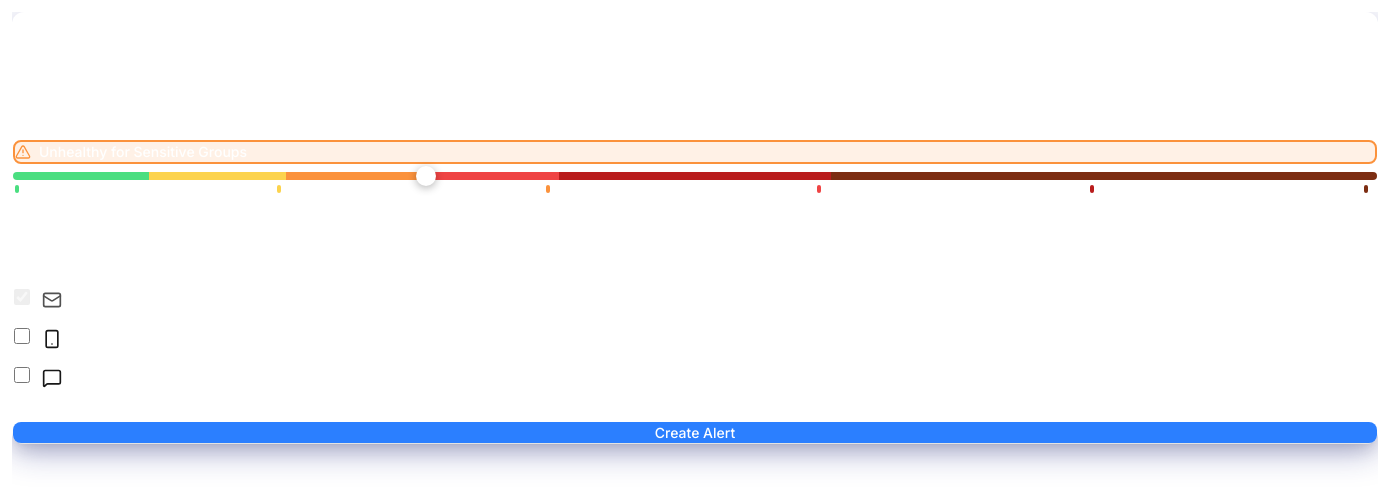
it: AlertConfigurationCardConnected › Loading State › should show loading state during submission
The image size is (1390, 487).
Click the button "Create Alert": (695, 432) [13,422,1377,443]
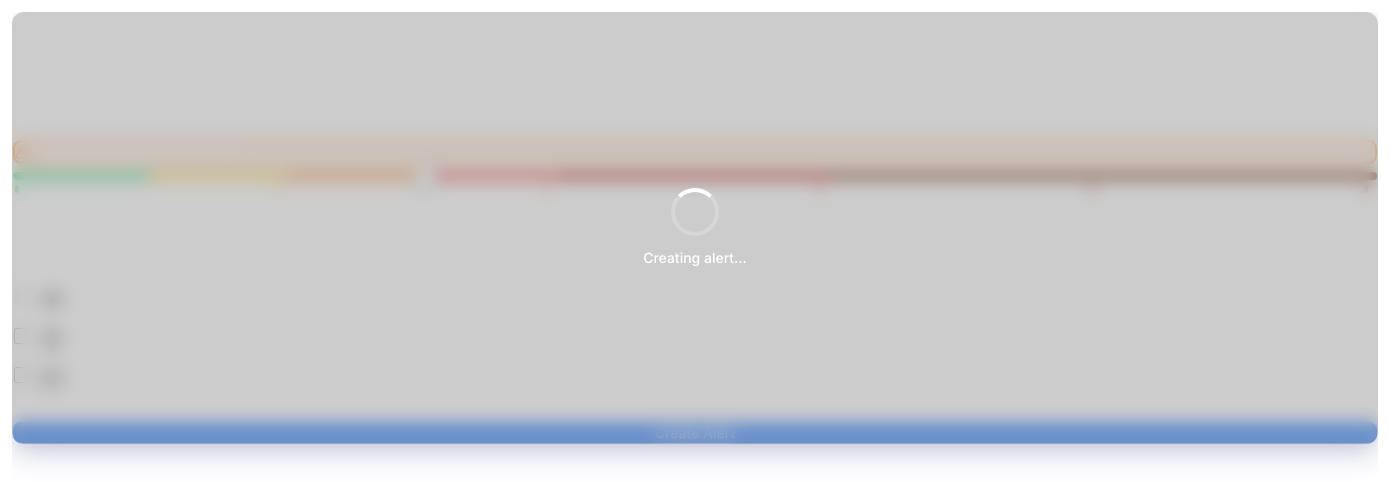
Expected: the text "Creating alert..." is shown, [643,248,747,268]
